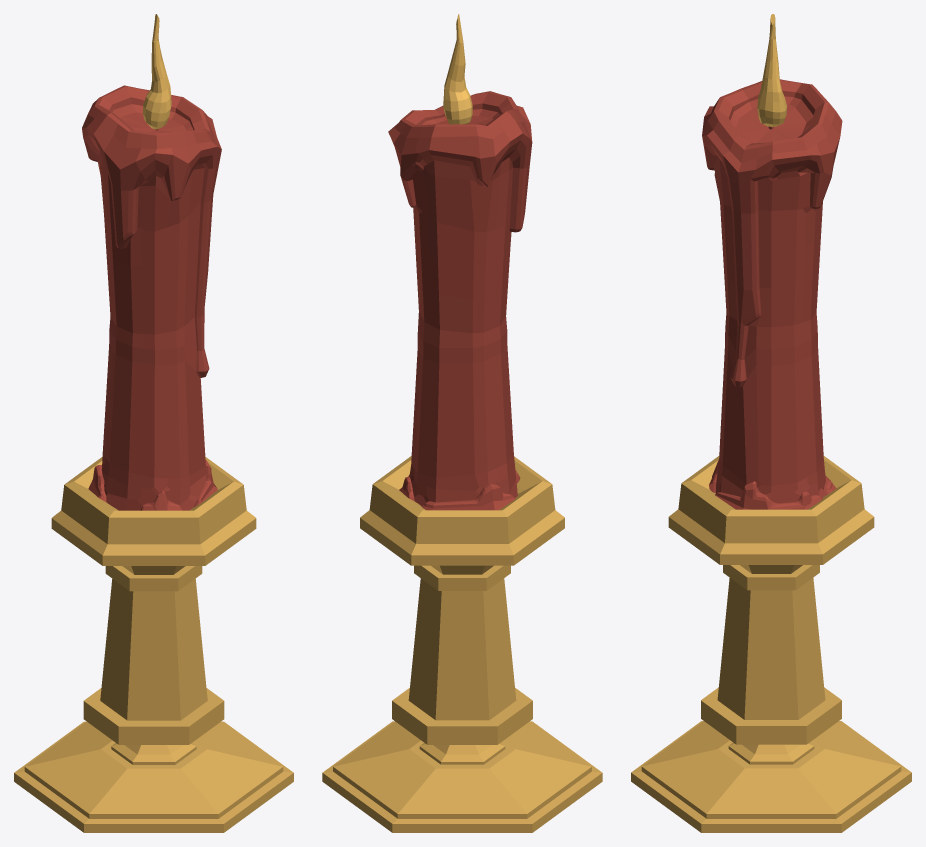
File: WF_LP_HT_Props_Candle.001.fbx
3 views of the same model, side by side, from view 1: azimuth 30°, elevation 25°; view 2: azimuth 150°, elevation 25°; view 3: azimuth 270°, elevation 25° (orthographic).
Visible parts, largest first — view 1: WF_LP_HT_Props_Candle.001; view 2: WF_LP_HT_Props_Candle.001; view 3: WF_LP_HT_Props_Candle.001.
Part boxes in pixels (x1,y1,x2,y2): WF_LP_HT_Props_Candle.001: [14, 14, 293, 832]; WF_LP_HT_Props_Candle.001: [322, 14, 602, 832]; WF_LP_HT_Props_Candle.001: [631, 14, 911, 832].
Bounding box in the file's own units: 0.1439 × 0.5024 × 0.1662.
